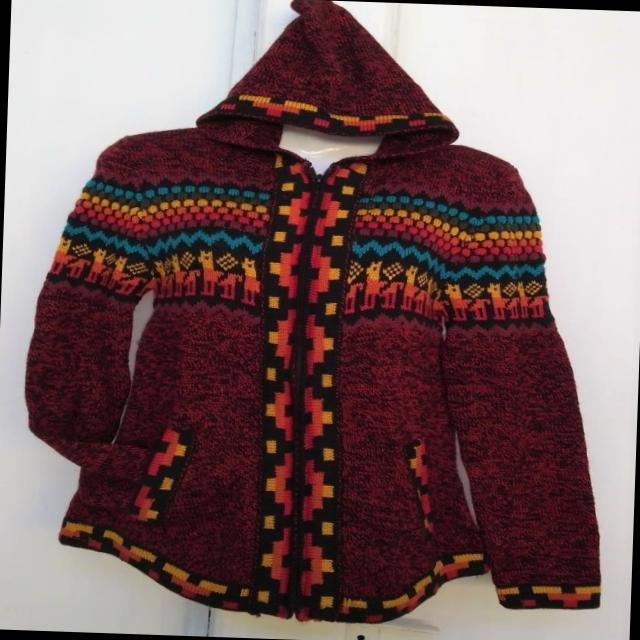Chompa: (16, 0, 623, 633)
